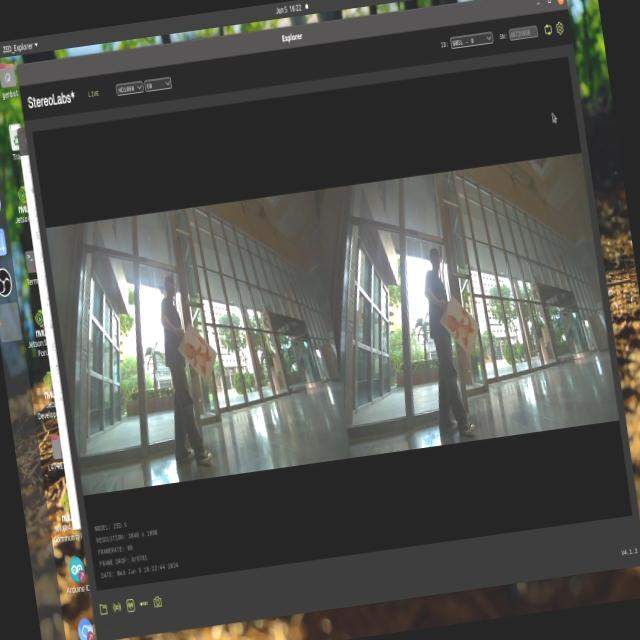red: (446, 302, 481, 361), (183, 328, 221, 378)
